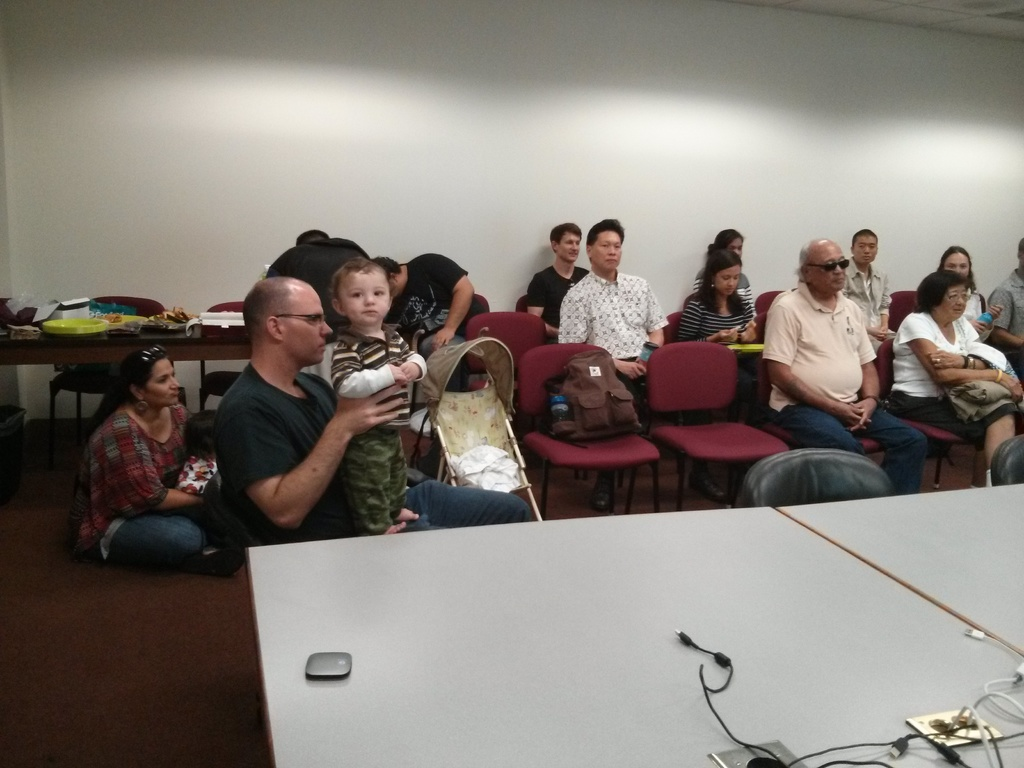Table: (5, 301, 244, 452)
